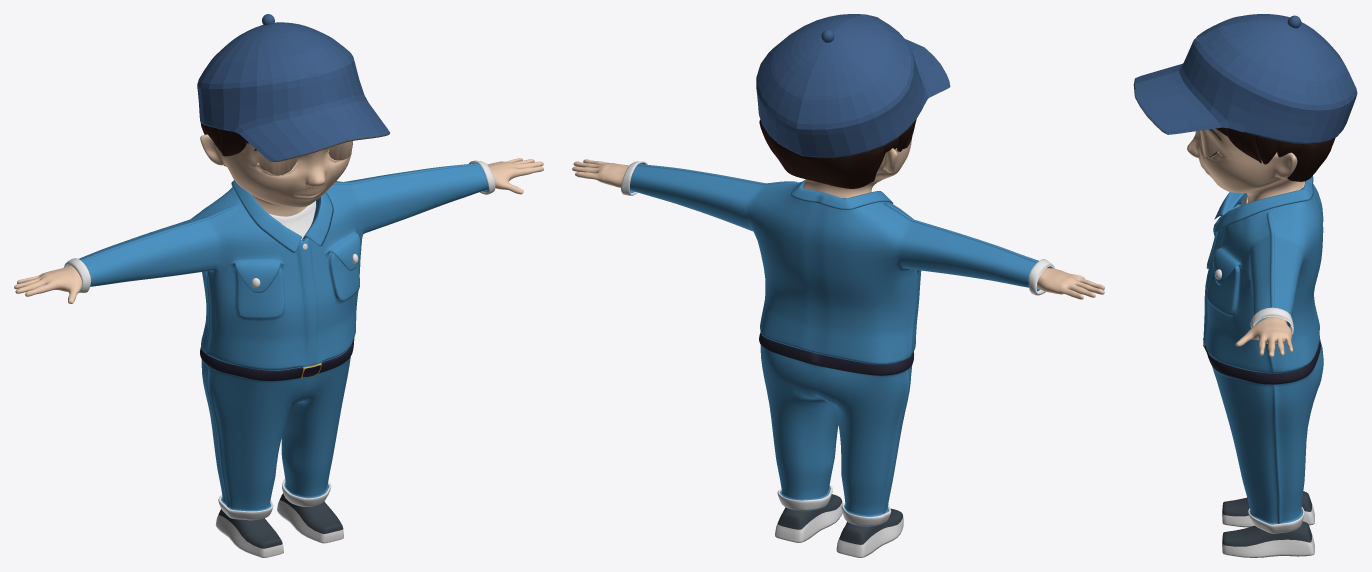
Rendered from EyeClose_ShapeTest_v3.fbx.
3 views of the same model, side by side, from view 1: azimuth 30°, elevation 25°; view 2: azimuth 150°, elevation 25°; view 3: azimuth 270°, elevation 25° (orthographic).
Parts seen in each view (by area): view 1: Body; view 2: Body; view 3: Body.
Part boxes in pixels (x1,y1,x2,y2): Body: (14, 14, 543, 557); Body: (572, 14, 1104, 557); Body: (1133, 14, 1357, 557).
Size of the model in its own units: 453 by 417 by 163.
